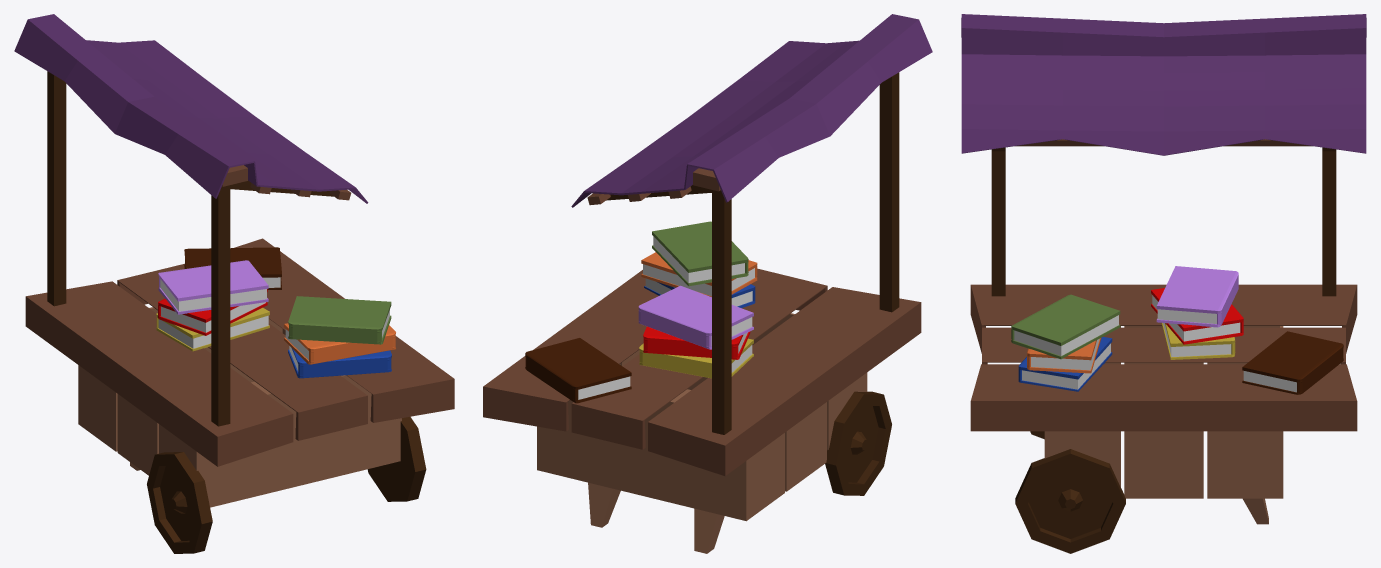
Rendered from puestoLibros1.fbx.
The picture shows the model from 3 angles, left to right: view 1: azimuth 30°, elevation 25°; view 2: azimuth 150°, elevation 25°; view 3: azimuth 270°, elevation 25°; orthographic projection. The views are drawn at different scales.
Parts seen in each view (by area): view 1: Cube.9099, Plane.1801, Cube.9098, Cube.9100, Circle.231, Cube.9110, Cube.9116, Cube.9106, Cube.9118, Cube.9108, Cube.9113, Cube.9117 (+3 smaller); view 2: Cube.9099, Plane.1801, Cube.9098, Cube.9100, Circle.231, Cube.9118, Cube.9116, Cube.9110, Cube.9114, Cube.9112, Cube.9109, Cube.9111 (+2 smaller); view 3: Plane.1801, Cube.9099, Cube.9098, Circle.231, Cube.9100, Cube.9118, Cube.9116, Cube.9110, Cube.9111, Cube.9114, Cube.9107, Cube.9106 (+8 smaller).
Part boxes in pixels (<box>): Cube.9099: <box>25,238,454,466</box>; Plane.1801: <box>14,14,368,203</box>; Cube.9098: <box>78,307,401,507</box>; Cube.9100: <box>47,71,230,426</box>; Circle.231: <box>147,416,426,553</box>; Cube.9110: <box>288,296,391,344</box>; Cube.9116: <box>158,260,268,314</box>; Cube.9106: <box>288,348,391,378</box>; Cube.9118: <box>184,247,281,289</box>; Cube.9108: <box>284,323,395,364</box>; Cube.9113: <box>158,315,268,348</box>; Cube.9117: <box>160,279,266,311</box>; Cube.9099: <box>483,268,921,475</box>; Plane.1801: <box>571,14,932,207</box>; Cube.9098: <box>537,313,867,553</box>; Cube.9100: <box>712,72,899,434</box>; Circle.231: <box>825,391,891,495</box>; Cube.9118: <box>525,338,631,403</box>; Cube.9116: <box>638,285,753,349</box>; Cube.9110: <box>652,221,748,286</box>; Cube.9114: <box>643,326,750,359</box>; Cube.9112: <box>639,338,753,378</box>; Cube.9109: <box>643,264,754,296</box>; Cube.9111: <box>653,236,744,282</box>; Plane.1801: <box>961,14,1366,155</box>; Cube.9099: <box>970,284,1357,431</box>; Cube.9098: <box>1044,326,1283,524</box>; Circle.231: <box>1015,431,1125,553</box>; Cube.9100: <box>991,151,1336,296</box>; Cube.9118: <box>1242,331,1343,394</box>; Cube.9116: <box>1156,266,1238,327</box>; Cube.9110: <box>1011,294,1120,359</box>; Cube.9111: <box>1014,315,1118,355</box>; Cube.9114: <box>1151,288,1243,344</box>; Cube.9107: <box>1022,343,1110,389</box>; Cube.9106: <box>1018,337,1112,391</box>.
Size of the model in its own units: 930 by 1556 by 1329.
